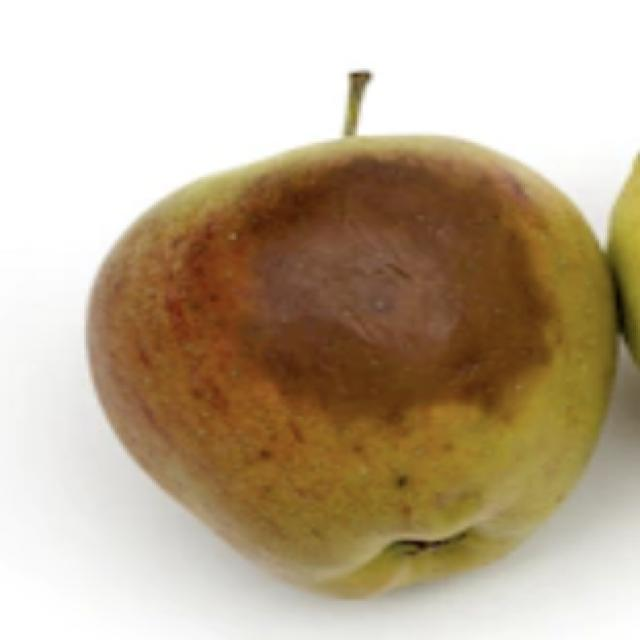Rotten: (85, 122, 633, 620)
